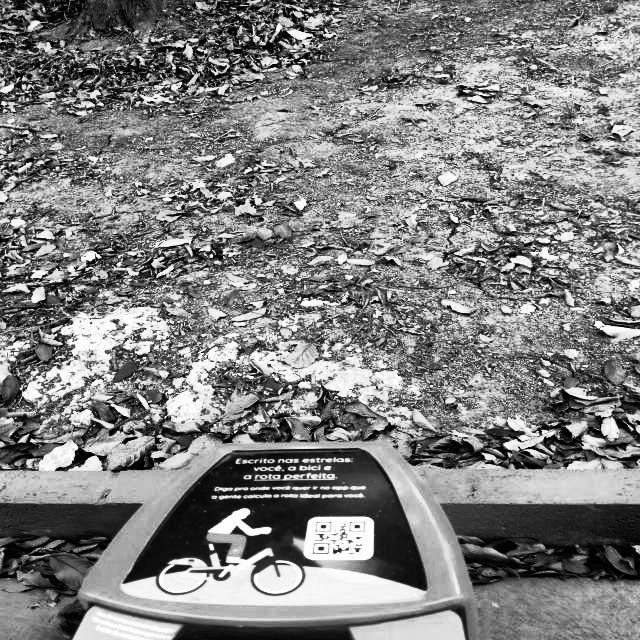qr_code: (313, 522, 365, 555)
